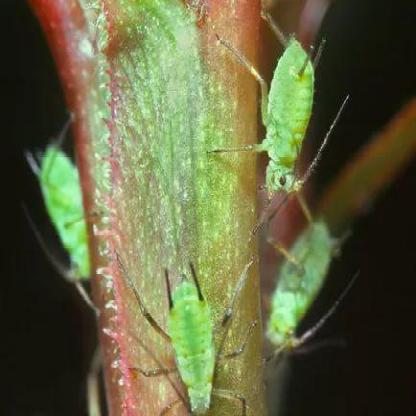aphid: (132, 257, 266, 416), (222, 17, 328, 205), (257, 190, 349, 367), (23, 122, 98, 312)
